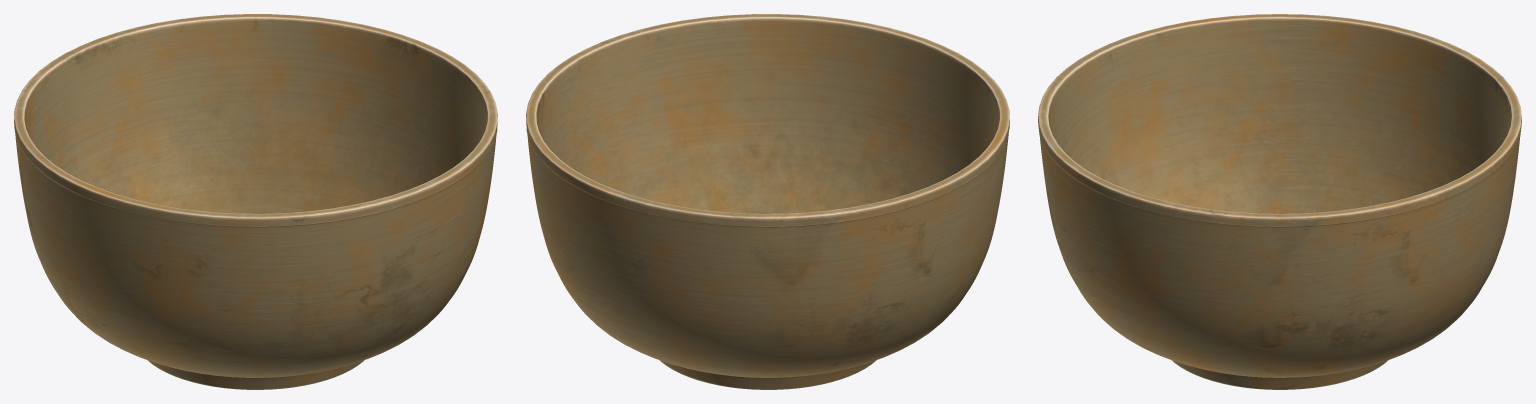
Rendered from SM_Bowl1_B.fbx.
3 views of the same model, side by side, from view 1: azimuth 30°, elevation 25°; view 2: azimuth 150°, elevation 25°; view 3: azimuth 270°, elevation 25° (orthographic).
Visible parts, largest first — view 1: SM_Bowl1_B; view 2: SM_Bowl1_B; view 3: SM_Bowl1_B.
Part boxes in pixels (left/top/right/bottom): SM_Bowl1_B: left=14, top=14, right=497, bottom=389; SM_Bowl1_B: left=526, top=14, right=1009, bottom=389; SM_Bowl1_B: left=1038, top=14, right=1521, bottom=389.
Size of the model in its own units: 13.29 by 6.8 by 13.29.
Materials: 1 (1 with a texture image).
